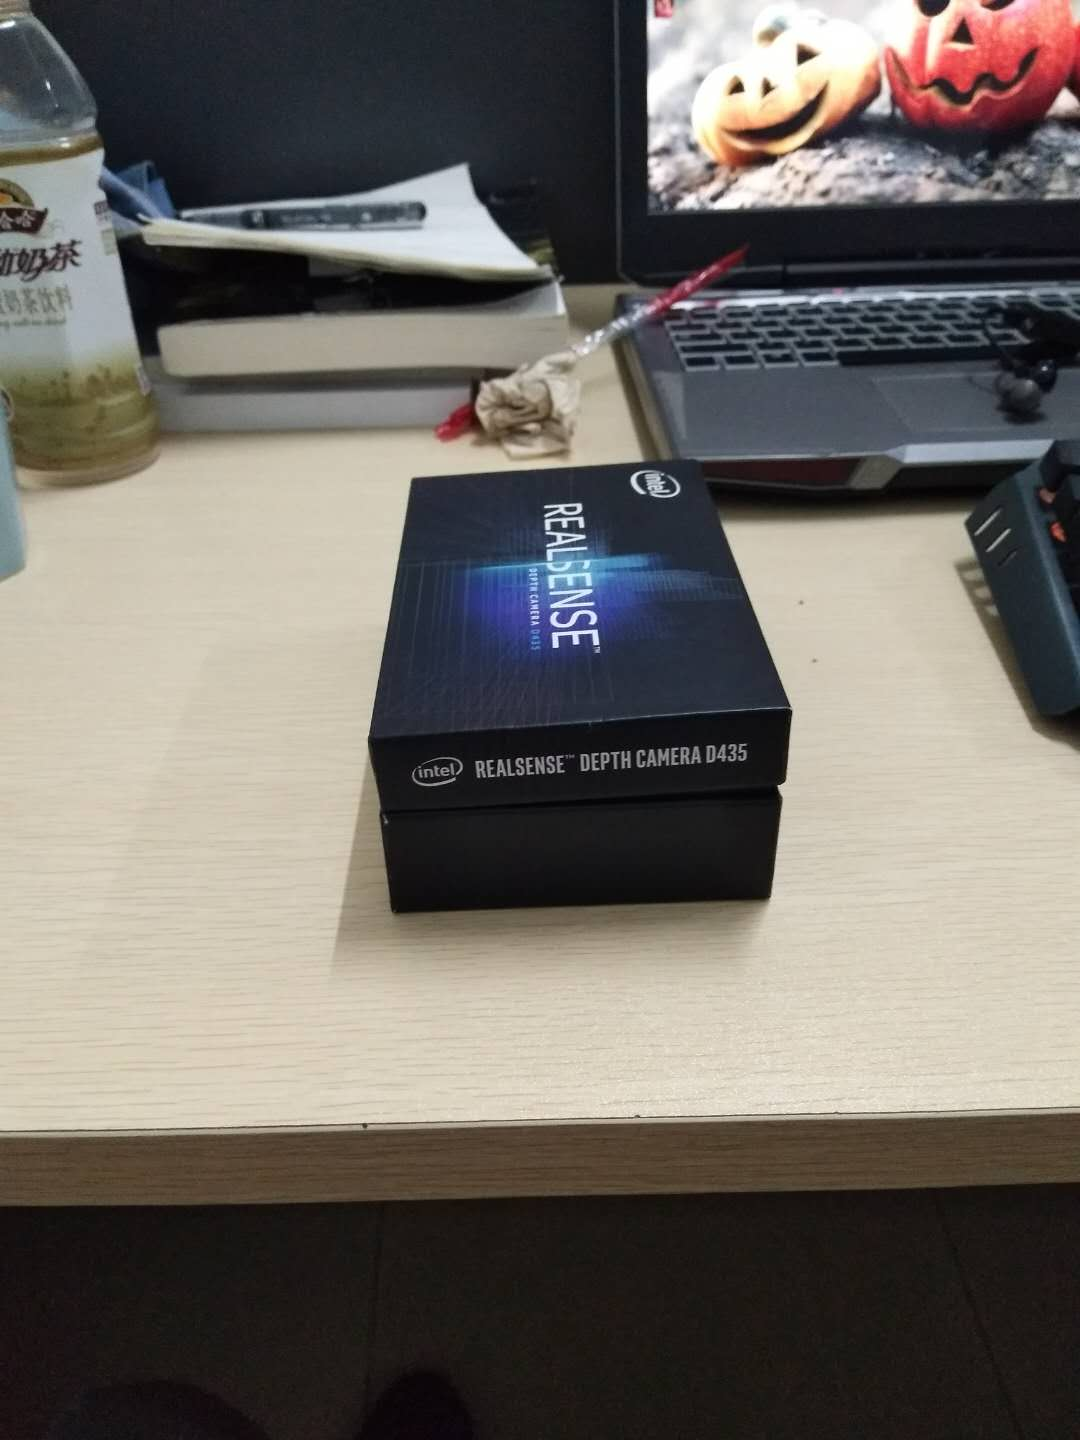box: (366, 458, 804, 938)
